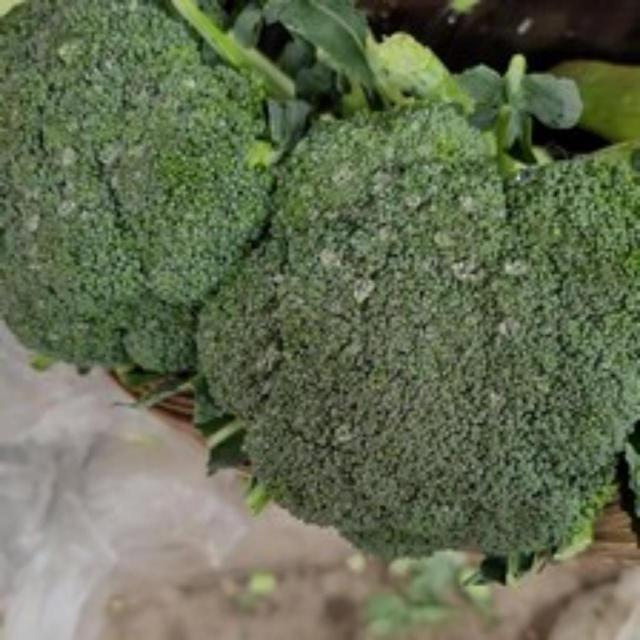broccoli: (186, 94, 636, 571)
